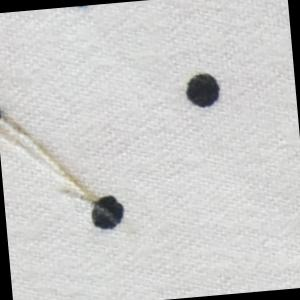Oil Stain: (1, 95, 118, 238)
